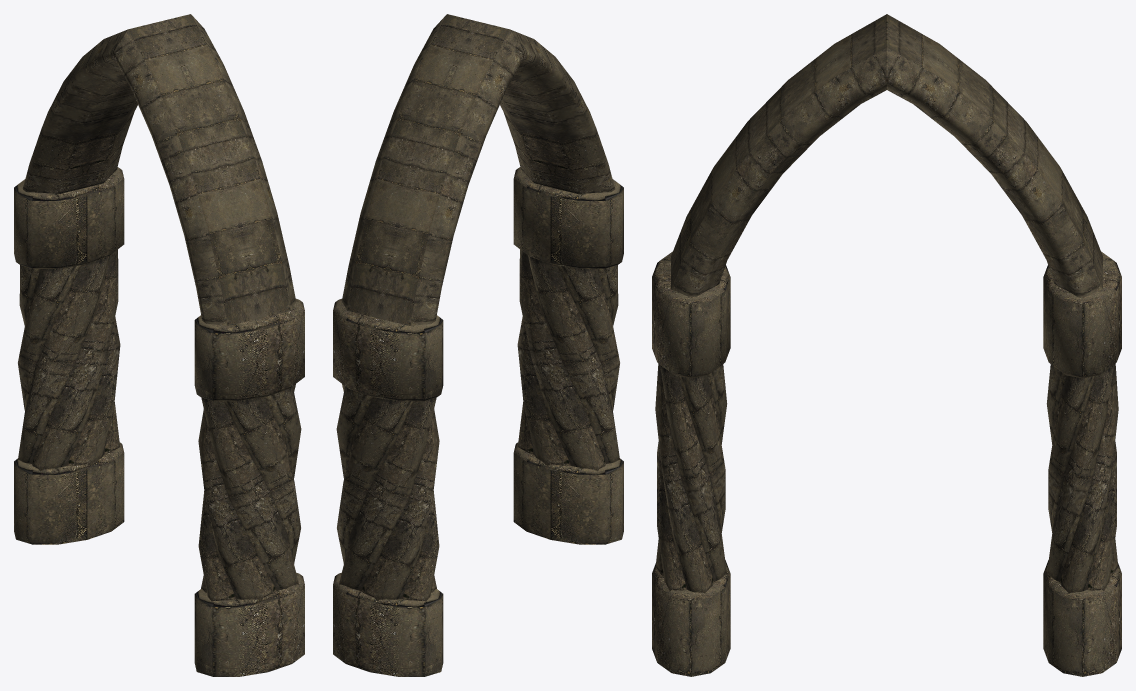
File: NC_door_frame.DAE
The picture shows the model from 3 angles, left to right: view 1: azimuth 30°, elevation 25°; view 2: azimuth 150°, elevation 25°; view 3: azimuth 270°, elevation 25°; orthographic projection. The views are drawn at different scales.
Parts seen in each view (by area): view 1: NC_doorframe; view 2: NC_doorframe; view 3: NC_doorframe.
Part boxes in pixels (x1,y1,x2,y2): NC_doorframe: (14,14,304,676); NC_doorframe: (333,14,623,676); NC_doorframe: (652,14,1121,676).
Bounding box in the file's own units: 0.6546 × 2.32 × 3.36.
